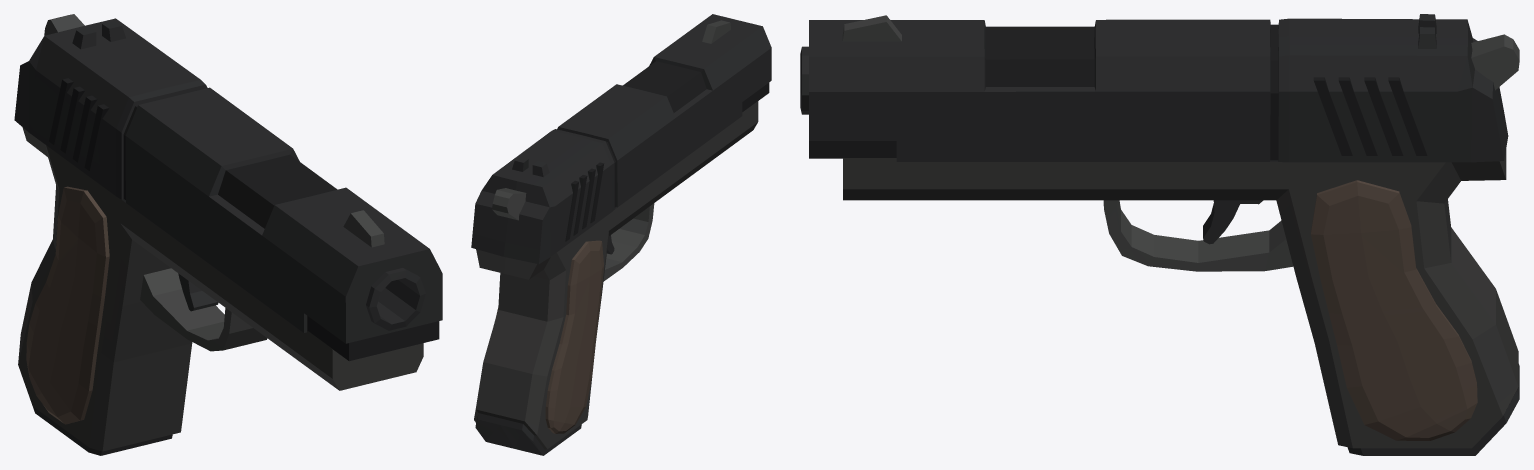
3 views of the same model, side by side, from view 1: azimuth 30°, elevation 25°; view 2: azimuth 150°, elevation 25°; view 3: azimuth 270°, elevation 25° (orthographic). The views are drawn at different scales.
Visible parts, largest first — view 1: slide_1, body_0, mag_2; view 2: slide_1, body_0, mag_2; view 3: slide_1, body_0, mag_2, trigger_3.
Boxes of the visible parts, x1,y1,x2,y2 form: slide_1: (14, 18, 442, 361); body_0: (18, 14, 423, 451); mag_2: (28, 393, 172, 455); slide_1: (471, 14, 771, 264); body_0: (474, 101, 758, 453); mag_2: (486, 424, 581, 455); slide_1: (800, 14, 1508, 162); body_0: (843, 34, 1519, 448); mag_2: (1347, 424, 1505, 455); trigger_3: (1211, 200, 1263, 230).
Size of the model in its own units: 3.84 by 13.79 by 21.6.
